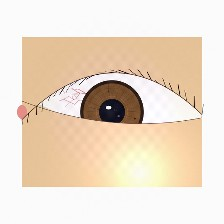pterygium_lesion: (23, 94, 66, 130)
